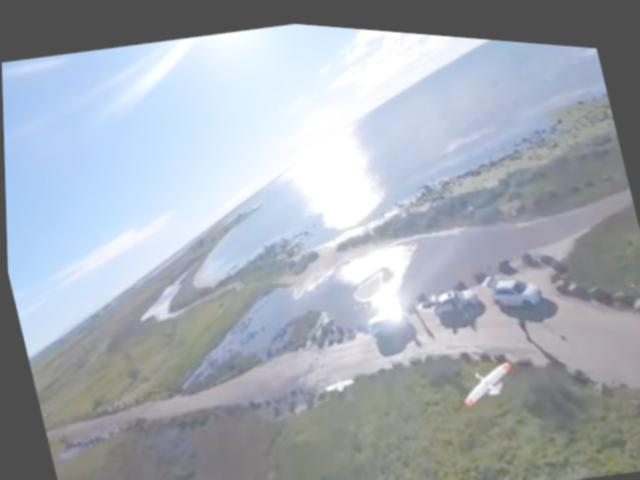uav: (453, 349, 517, 402), (320, 370, 354, 393)
